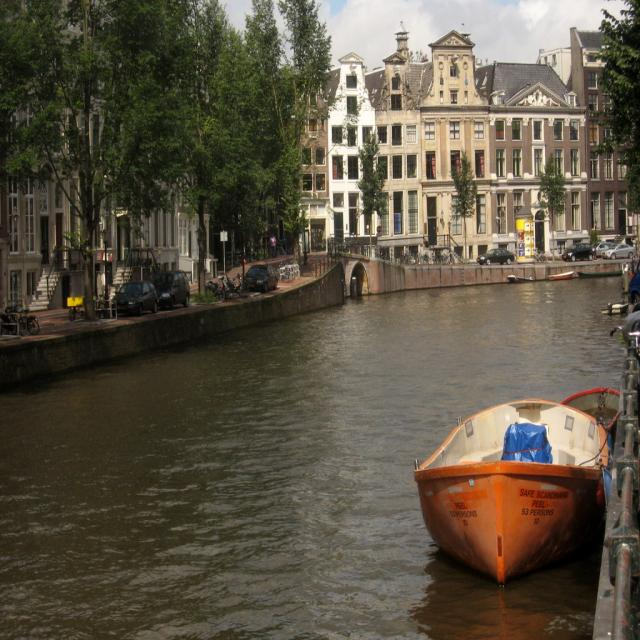Boat: (422, 385, 610, 585)
